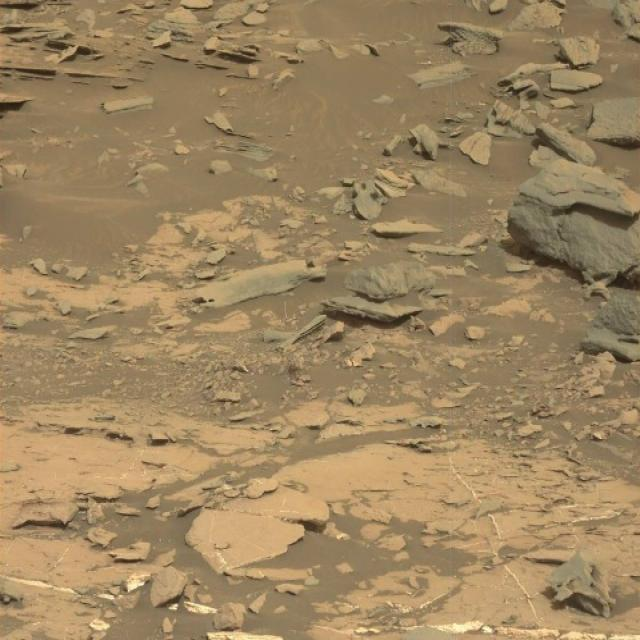mars-rocks: (510, 159, 640, 282), (553, 553, 616, 618), (590, 97, 640, 147)
